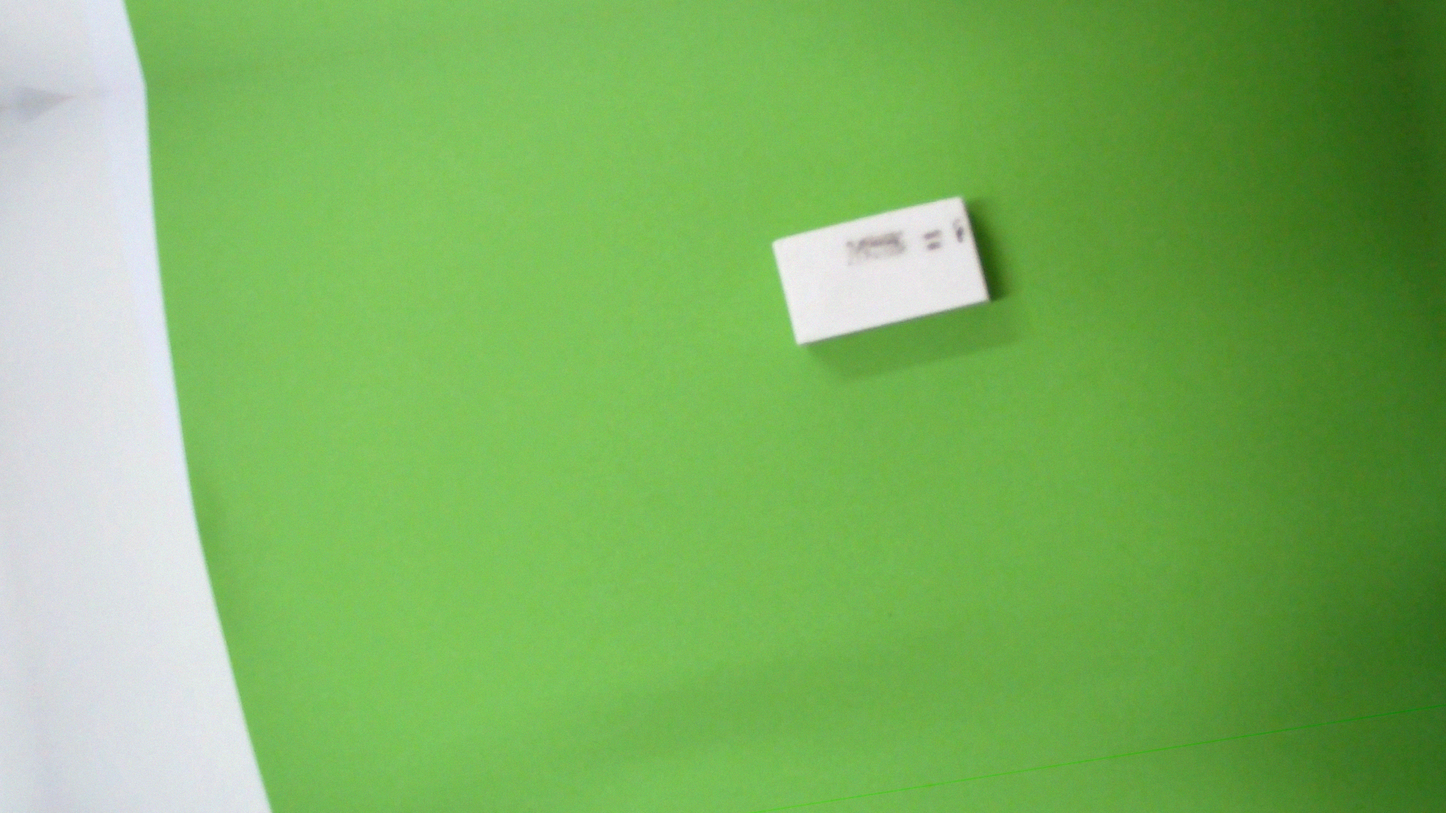gom: (767, 181, 996, 357)
